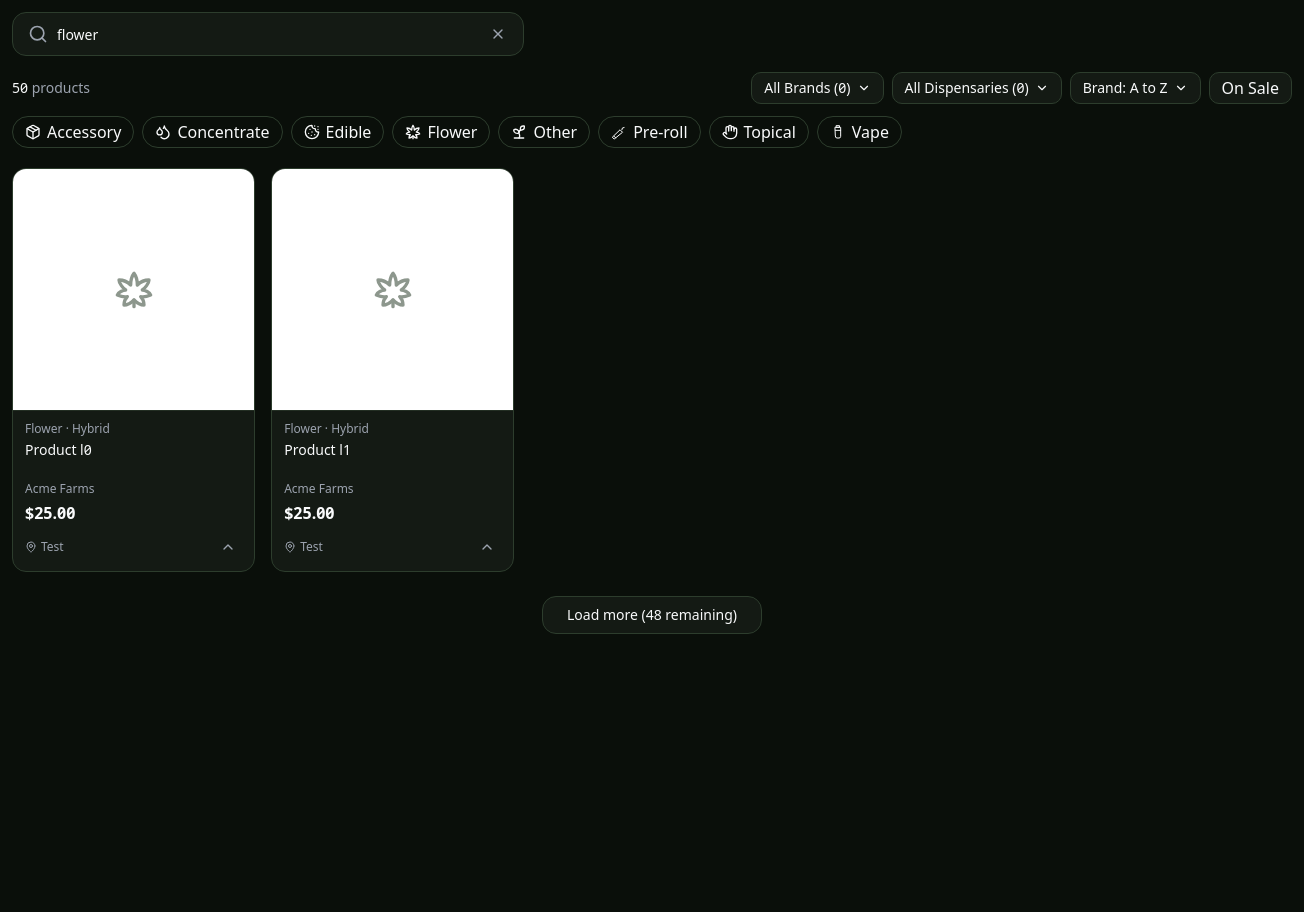
Scenario: SearchClient load more › surfaces a network failure the same way
The image size is (1304, 912).
Click the button "Load more (48 remaining)".
click(652, 615)  # box x1=542 y1=596 x2=762 y2=634
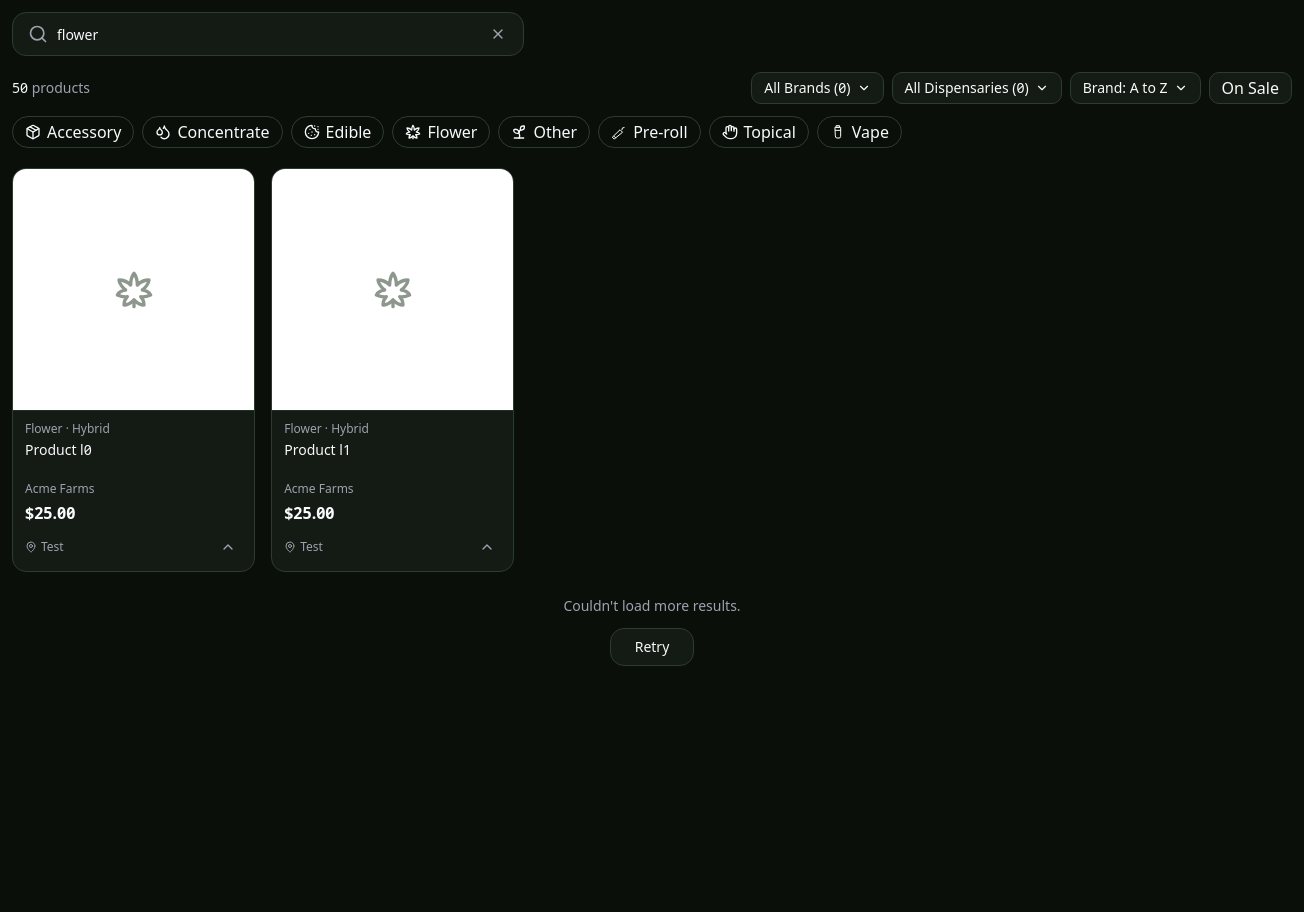
Result: the text "Couldn't load more results." is shown at x1=563 y1=596 x2=741 y2=616
